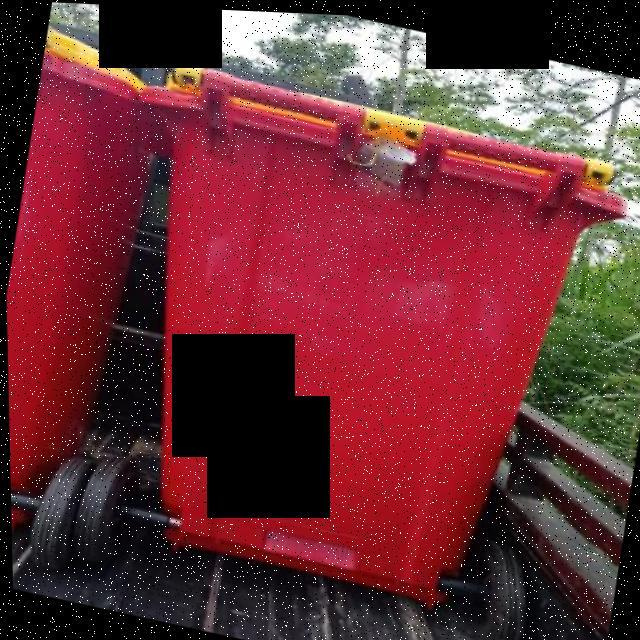obstacle: (44, 41, 640, 640)
